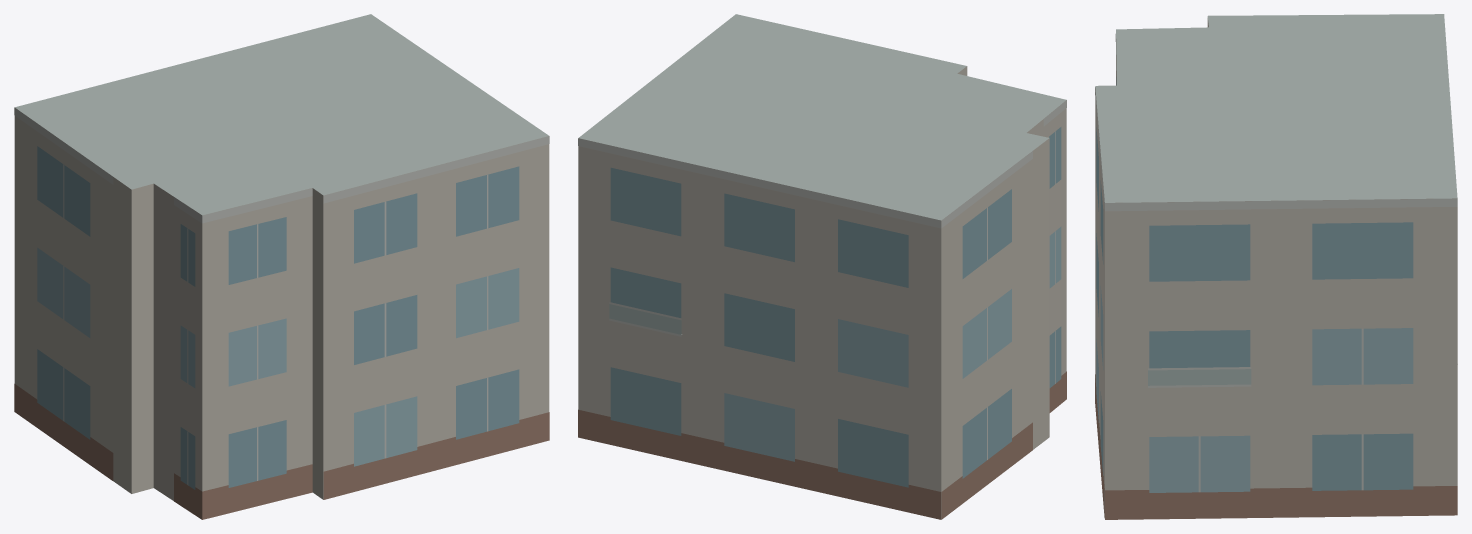
The model's file is survey-upis-32489804.glb.
3 views of the same model, side by side, from view 1: azimuth 30°, elevation 25°; view 2: azimuth 150°, elevation 25°; view 3: azimuth 270°, elevation 25° (orthographic). The views are drawn at different scales.
Visible parts, largest first — view 1: survey-upis-32489804.tmp; view 2: survey-upis-32489804.tmp; view 3: survey-upis-32489804.tmp.
Part boxes in pixels (x1,y1,x2,y2): survey-upis-32489804.tmp: [14, 14, 549, 519]; survey-upis-32489804.tmp: [578, 14, 1066, 519]; survey-upis-32489804.tmp: [1095, 14, 1457, 519].
Size of the model in its own units: 11.71 by 9.15 by 9.49.
